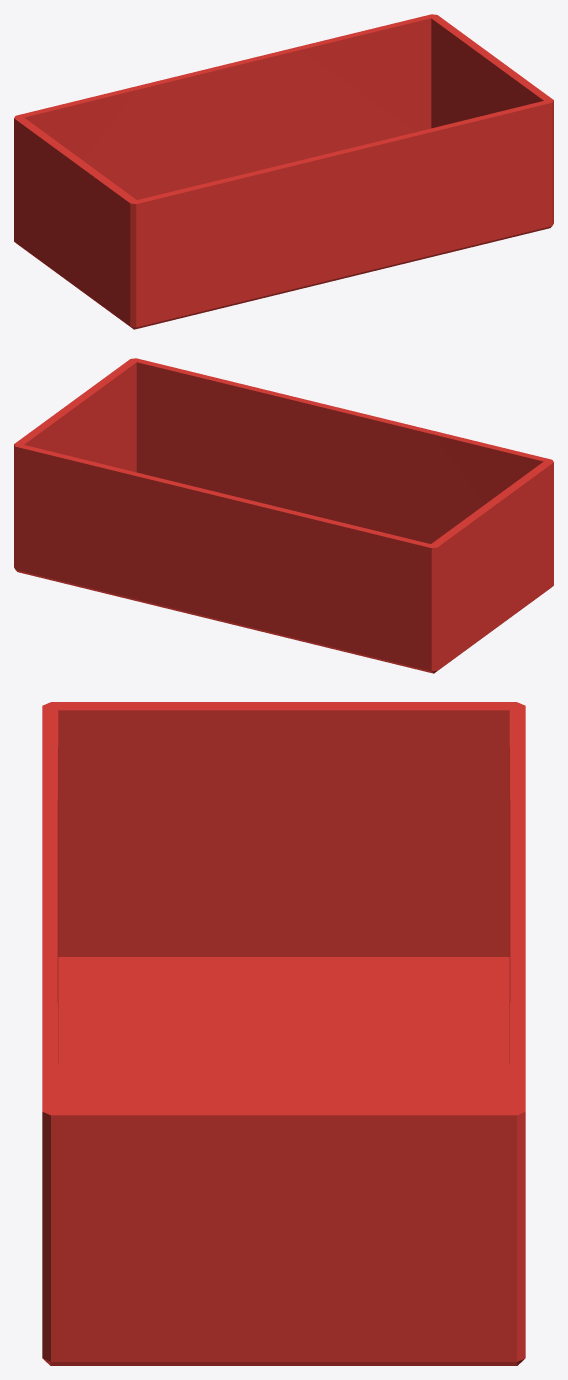
Rendered from SM_Gift_Christmas_Long_Open.fbx.
3 renders of one model, top to bottom at view 1: azimuth 30°, elevation 25°; view 2: azimuth 150°, elevation 25°; view 3: azimuth 270°, elevation 25°, orthographic. The views are drawn at different scales.
Visible parts, largest first — view 1: gift-christmas-long-open; view 2: gift-christmas-long-open; view 3: gift-christmas-long-open.
Part boxes in pixels (x1=…): gift-christmas-long-open: x1=14, y1=14, x2=553, y2=329; gift-christmas-long-open: x1=14, y1=358, x2=553, y2=673; gift-christmas-long-open: x1=42, y1=702, x2=525, y2=1365.
Size of the model in its own units: 0.6073 by 0.1739 by 0.3.
